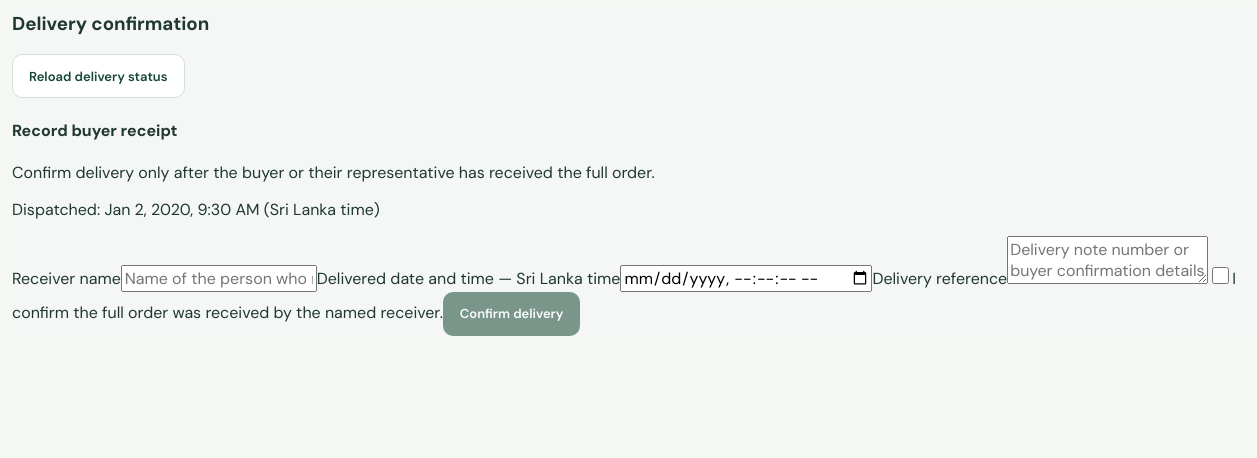
Test: Order delivery › retains saved delivery when refreshing the order fails
Type "  Test Buyer  " into the field labelled "Receiver name".
click(219, 278); type("  Test Buyer  ")  # box [121,265,317,292]
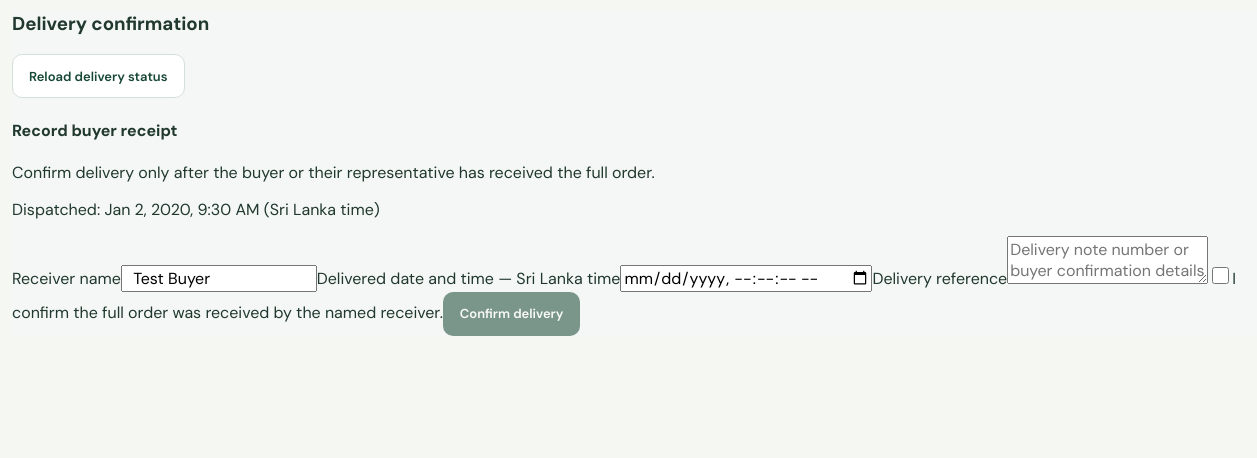
Type "2020-01-02T10:00:00" into the field labelled "Delivered date and time — Sri Lanka time".
click(746, 278); type("2020-01-02T10:00:00")  # box [620,265,872,292]
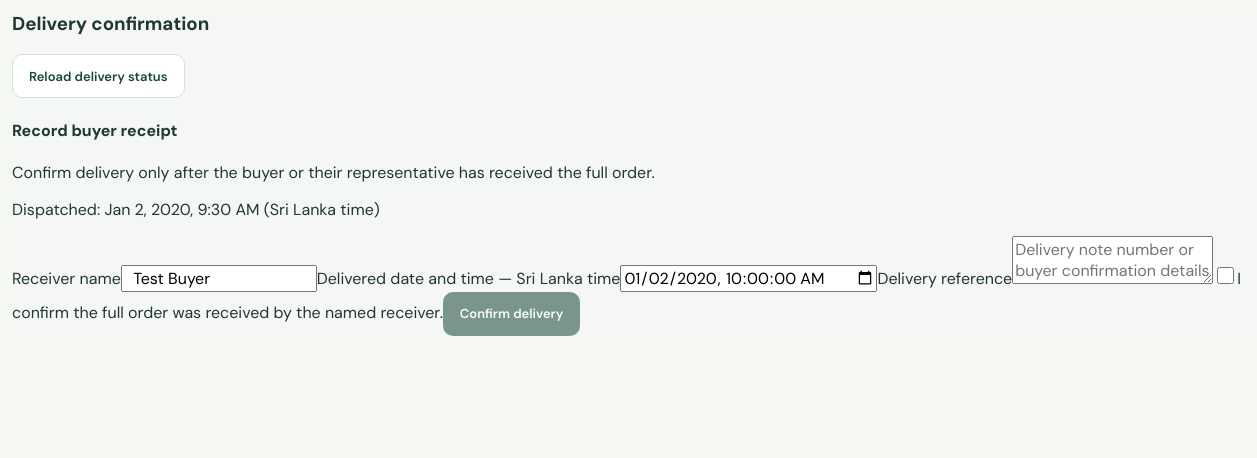
Type "  Delivery note 42  " into the text box labelled "Delivery reference".
click(1113, 260); type("  Delivery note 42  ")  # box [1012,236,1213,284]
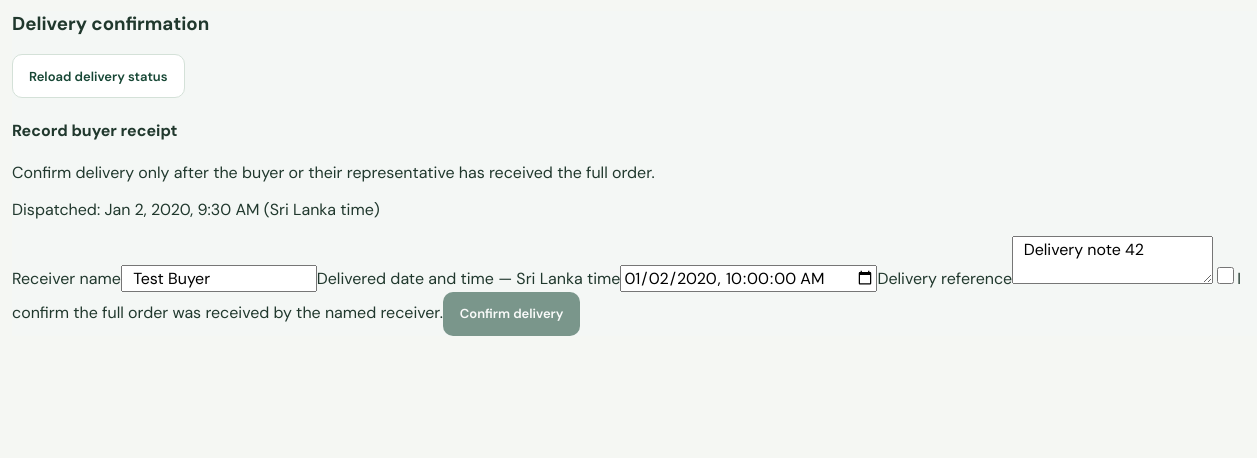
Click the checkbox labelled "I confirm the full order was received by the named receiver.".
click(1226, 276)  # box [1217,267,1234,284]
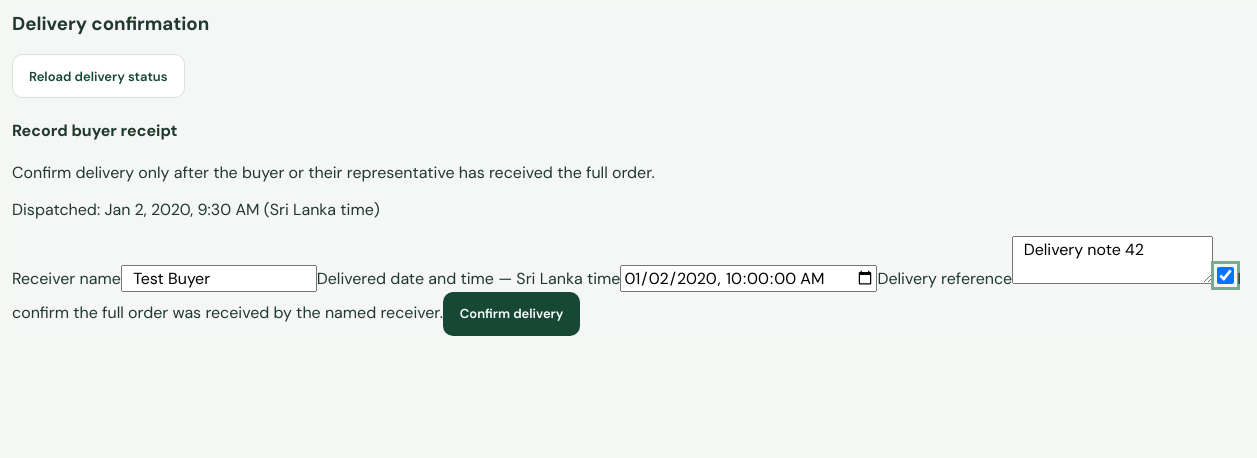
Click the button "Confirm delivery".
click(512, 314)  # box [443,292,580,336]
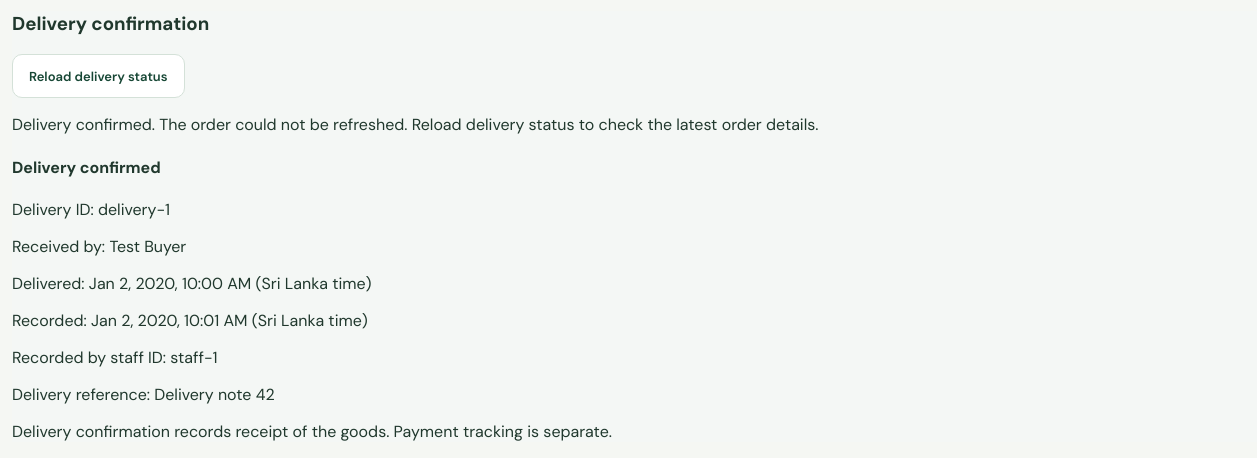
Expected: the text "Delivery confirmed. The order could not be refreshed. Reload delivery status to check the latest order details." is shown, [12,114,818,135]
Expected: the heading "Delivery confirmed" is shown, [12,157,161,178]
Expected: the text "Confirm delivery" is gone
